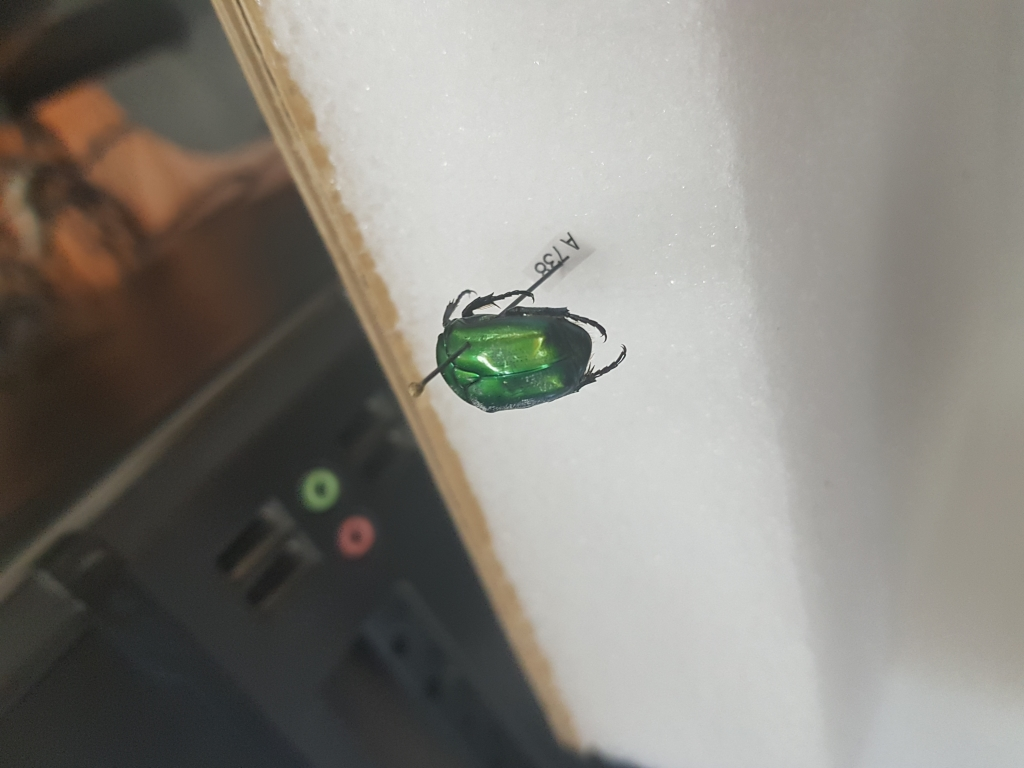Protaetia_cuprea_ignicollis: (433, 272, 646, 421)
